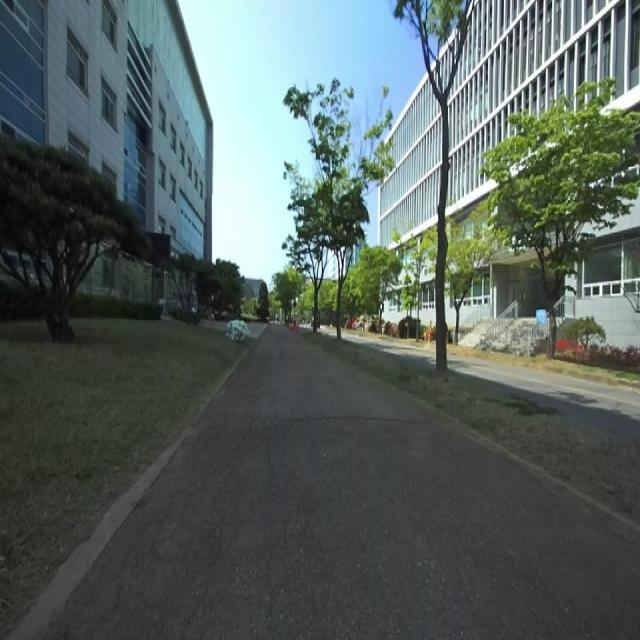sidewalk: (46, 325, 640, 639)
